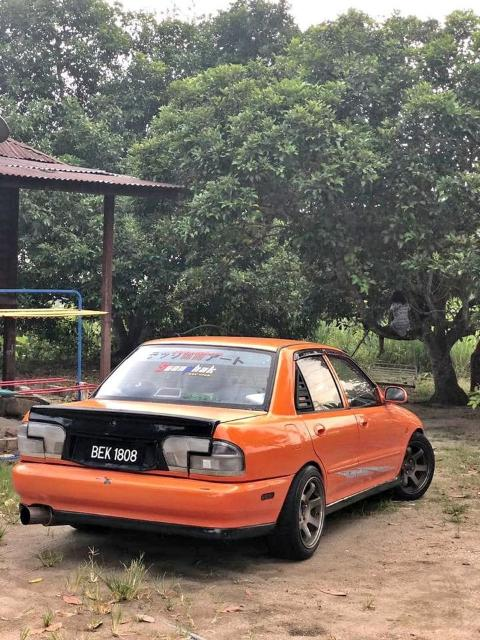License_Plate: (83, 439, 146, 468)
car: (12, 337, 443, 562)
